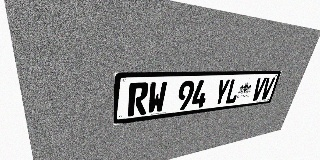4: (191, 80, 210, 109)
9: (176, 80, 196, 110)
L: (224, 78, 242, 104)
R: (128, 82, 149, 117)
V: (250, 78, 267, 101), (259, 77, 275, 100)
W: (147, 81, 168, 114)
Y: (212, 79, 231, 106)
